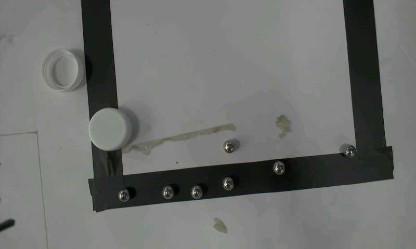ironball: (271, 160, 284, 175), (221, 176, 234, 190), (342, 145, 356, 158), (222, 139, 234, 153), (117, 188, 129, 202), (161, 185, 173, 199), (190, 185, 202, 199)
